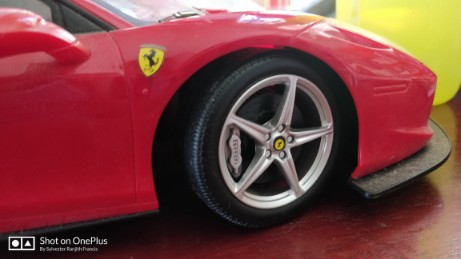unaligned_wheel: (165, 50, 348, 232)
